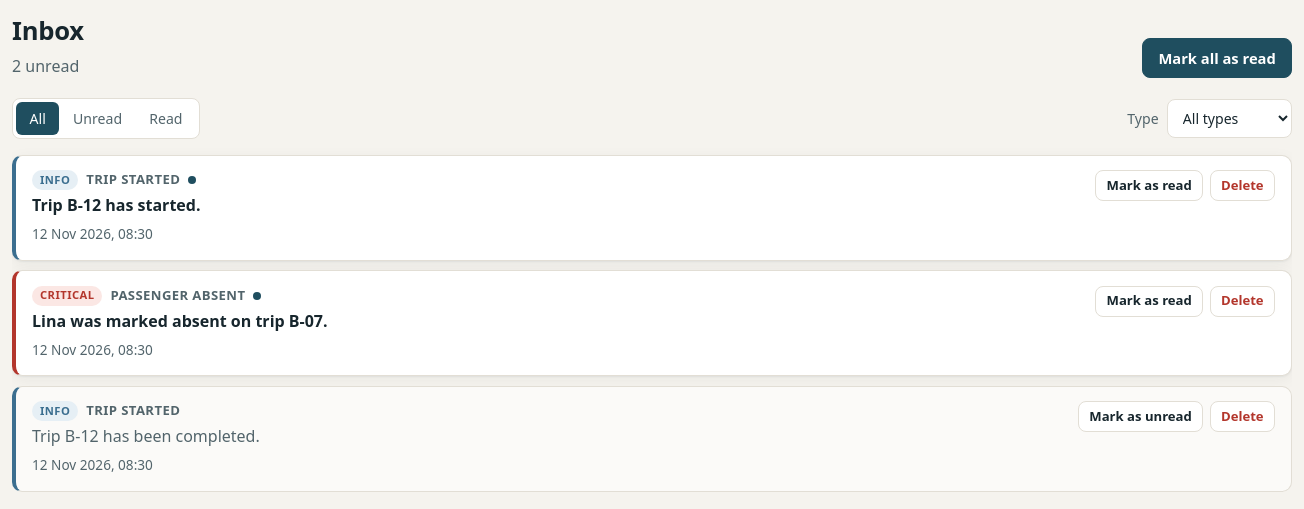
Test case: NotificationsPage › deletes a notification
Check: the text "Trip B-12 has started." is shown, box left=32, top=193, right=200, bottom=217
Click the button with aria-label "Delete: Trip B-12 has started.": (1242, 186) left=1210, top=170, right=1275, bottom=201
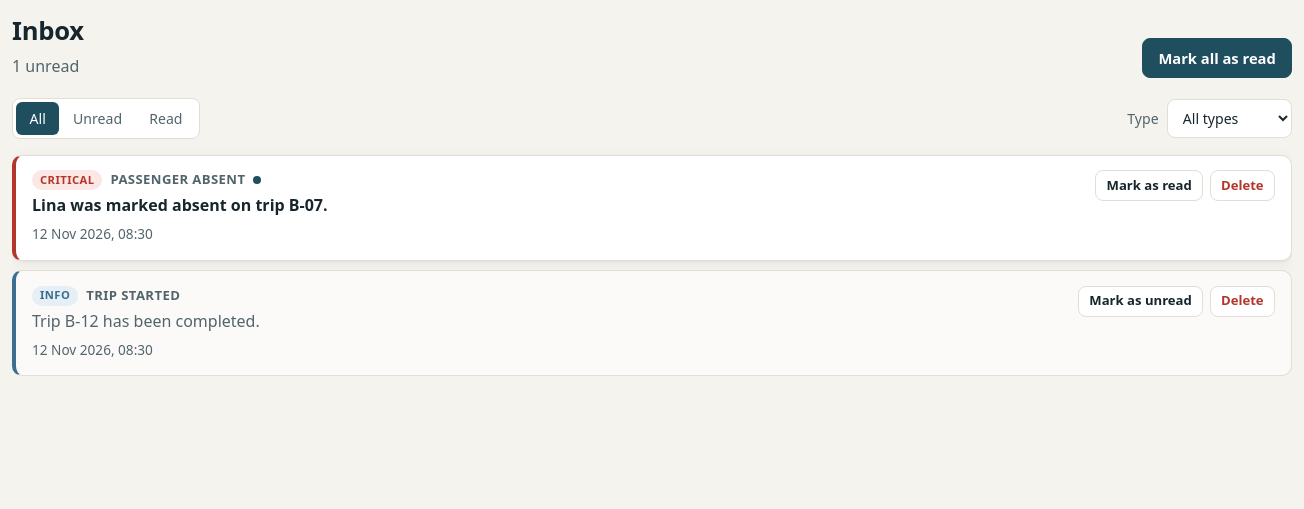
Check: the text "Trip B-12 has started." is gone
